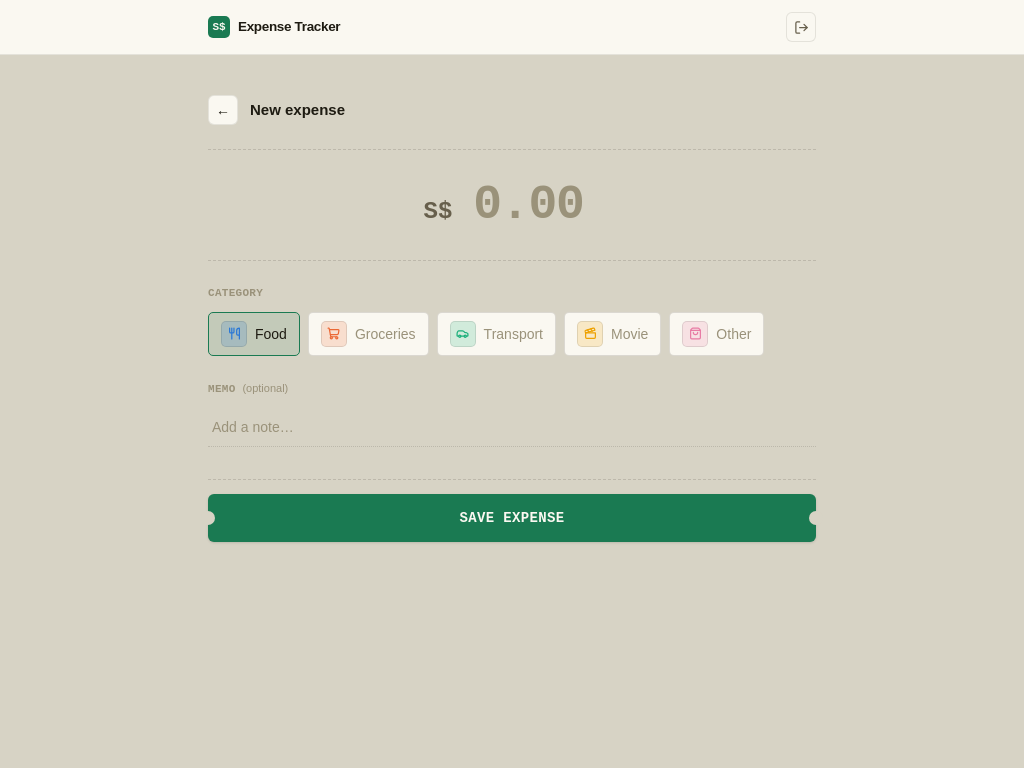
Scenario: AddExpensePage › clears the form after a successful submit
Type "5" into the number field with placeholder "0.00".
click(528, 205); type("5")  # box [456,178,600,232]
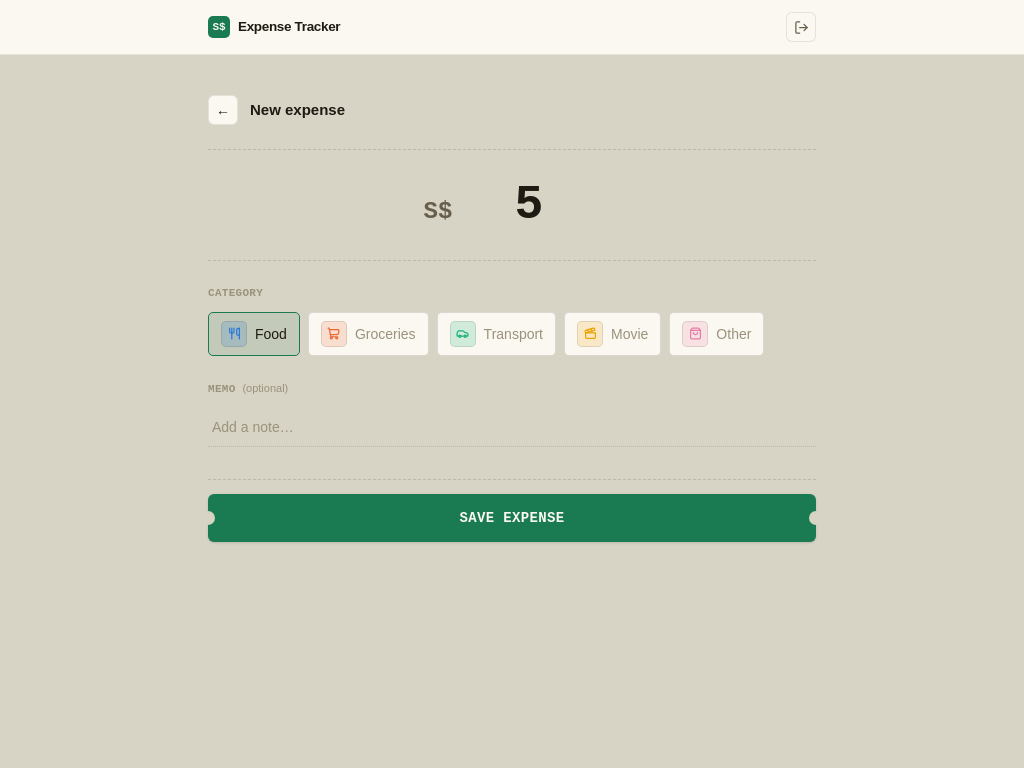
Click the button "Save expense".
click(512, 518)  # box [208,494,816,542]
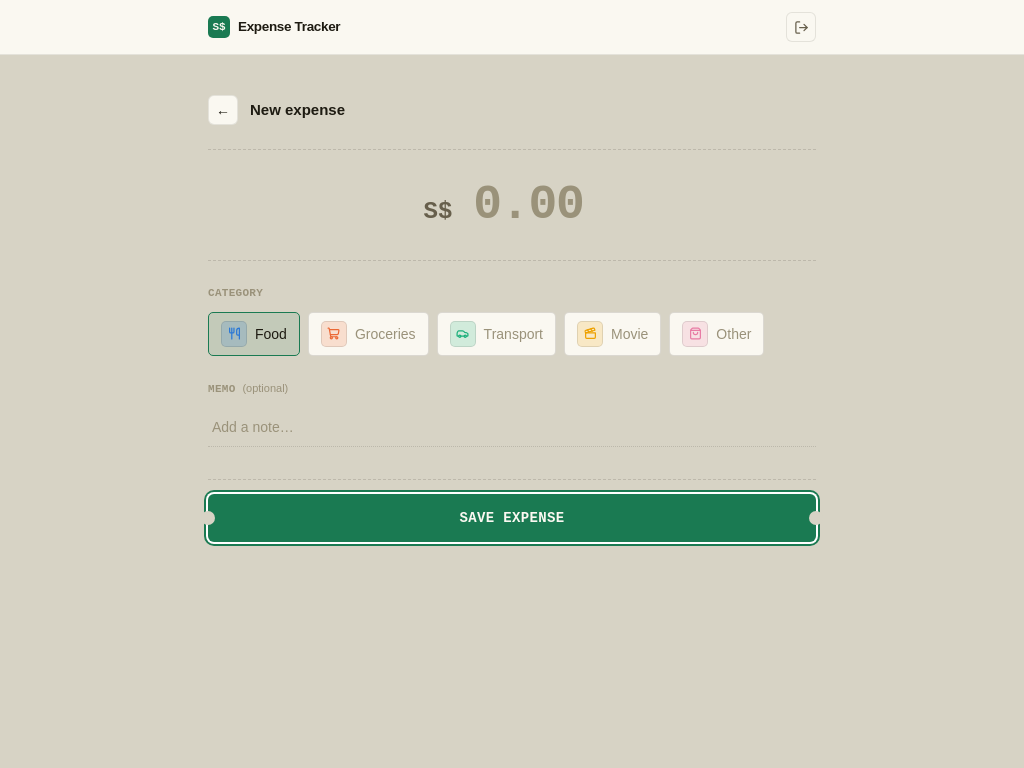
Check: the number field with placeholder "0.00" is not empty, box [456,178,600,232]
